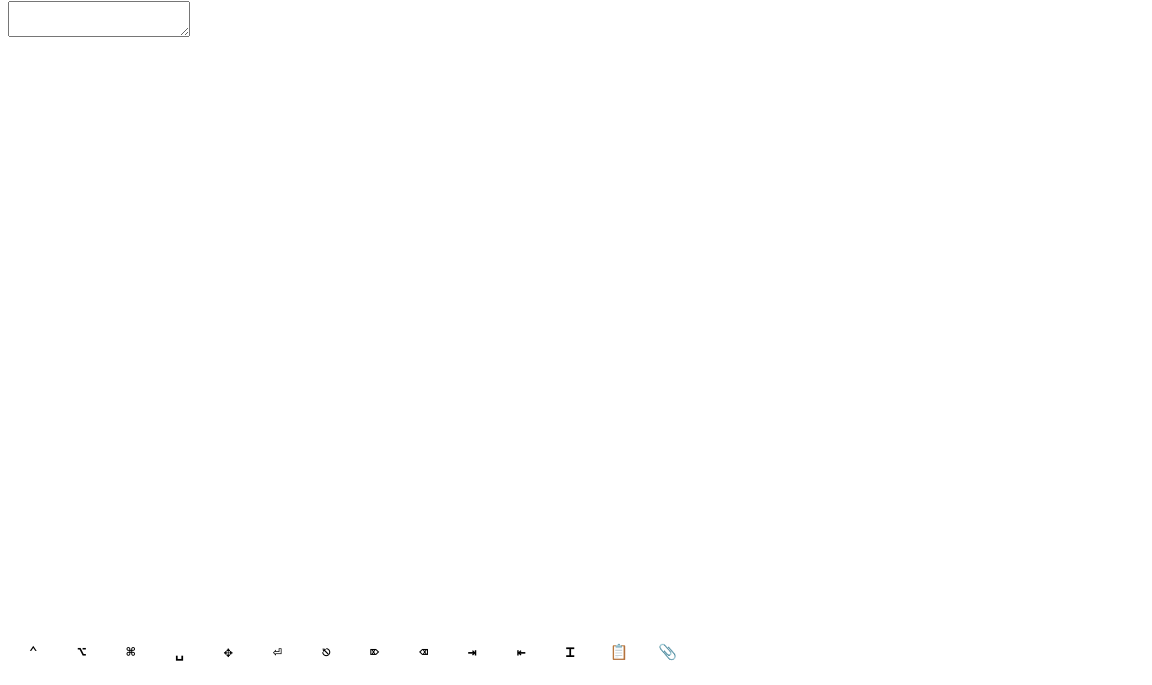
Test: TerminalView › takes the snapshot the moment select mode opens, so later output cannot disturb a selection
The image size is (1152, 685).
(page scrolled)
Click the button named "select text" at (570, 652), box [548,630,592,674]
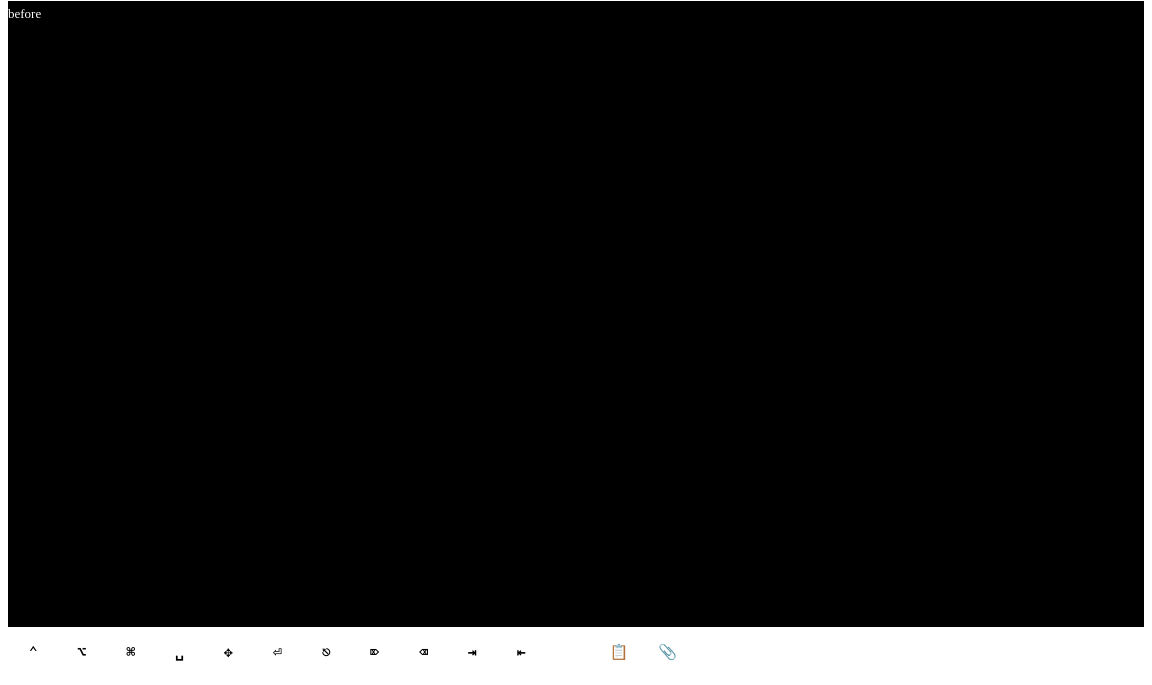
Result: the element with class "snapshot" reads "before" at [8,6,41,21]
